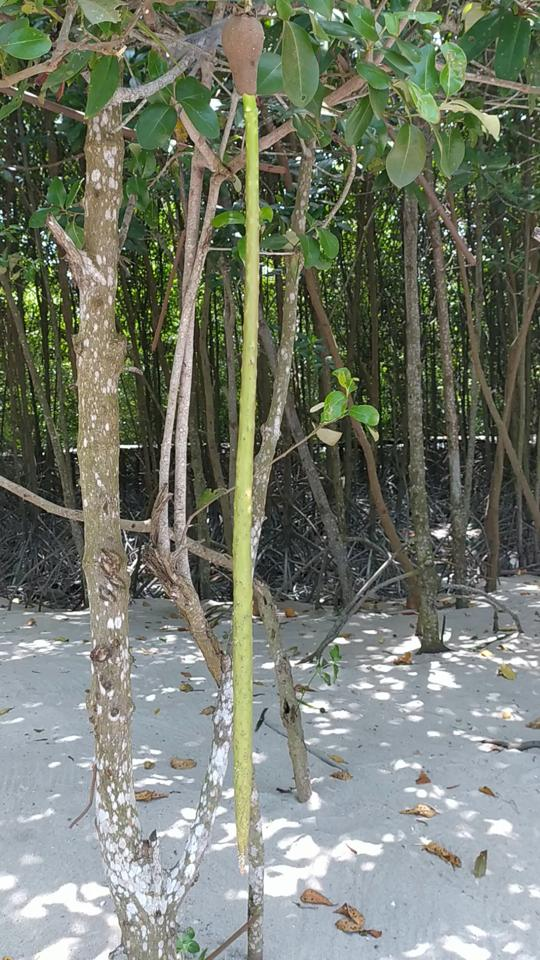mentah: (200, 4, 287, 888)
